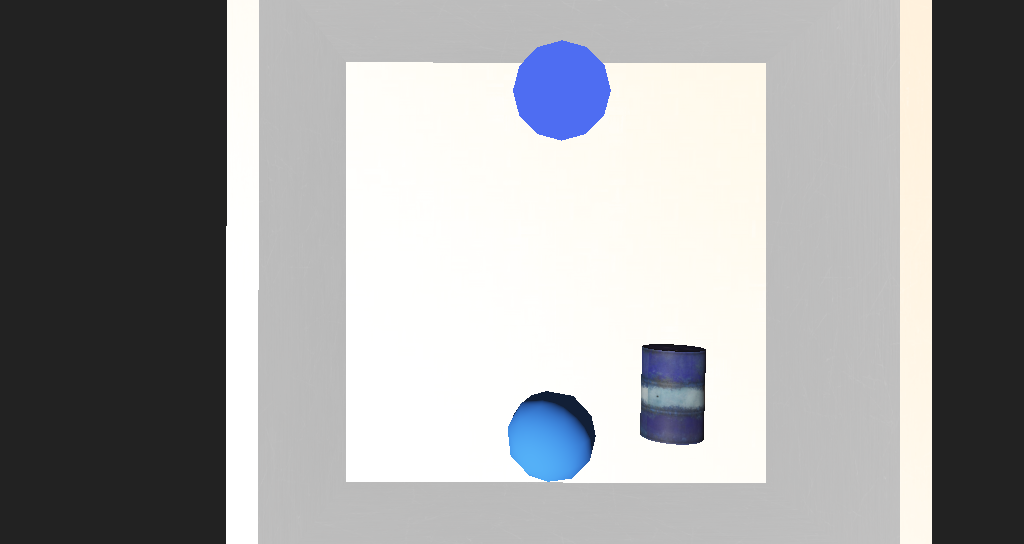cone: (559, 305, 613, 353)
cylinder: (475, 155, 536, 208)
sphere: (465, 324, 532, 372)
